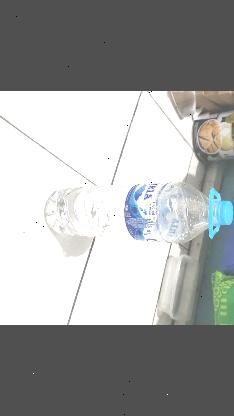Plastic Bottle: (42, 183, 234, 243)
